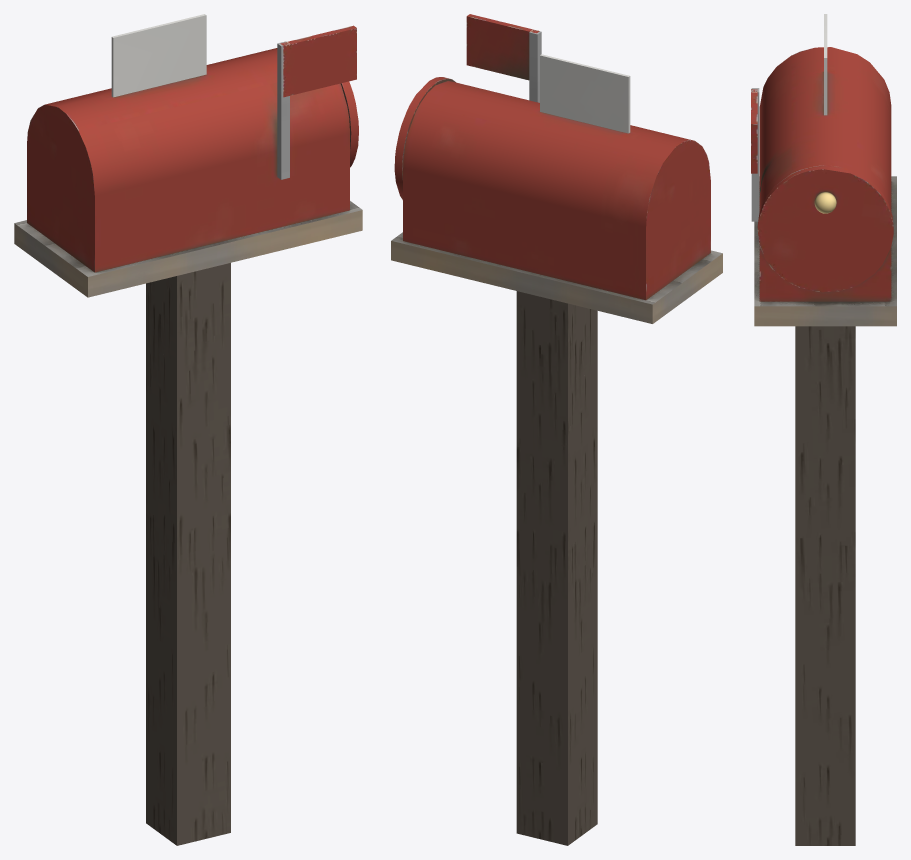
File: mailbox.glb
The picture shows the model from 3 angles, left to right: view 1: azimuth 30°, elevation 25°; view 2: azimuth 150°, elevation 25°; view 3: azimuth 270°, elevation 25°; orthographic projection. The views are drawn at different scales.
Visible parts, largest first — view 1: mailbox; view 2: mailbox; view 3: mailbox.
Part boxes in pixels (x1,y1,x2,y2): mailbox: (14,14,362,845); mailbox: (391,14,722,845); mailbox: (751,14,896,845).
Size of the model in its own units: 0.584 by 1.57 by 0.2659.
6 materials, 6 textured.
